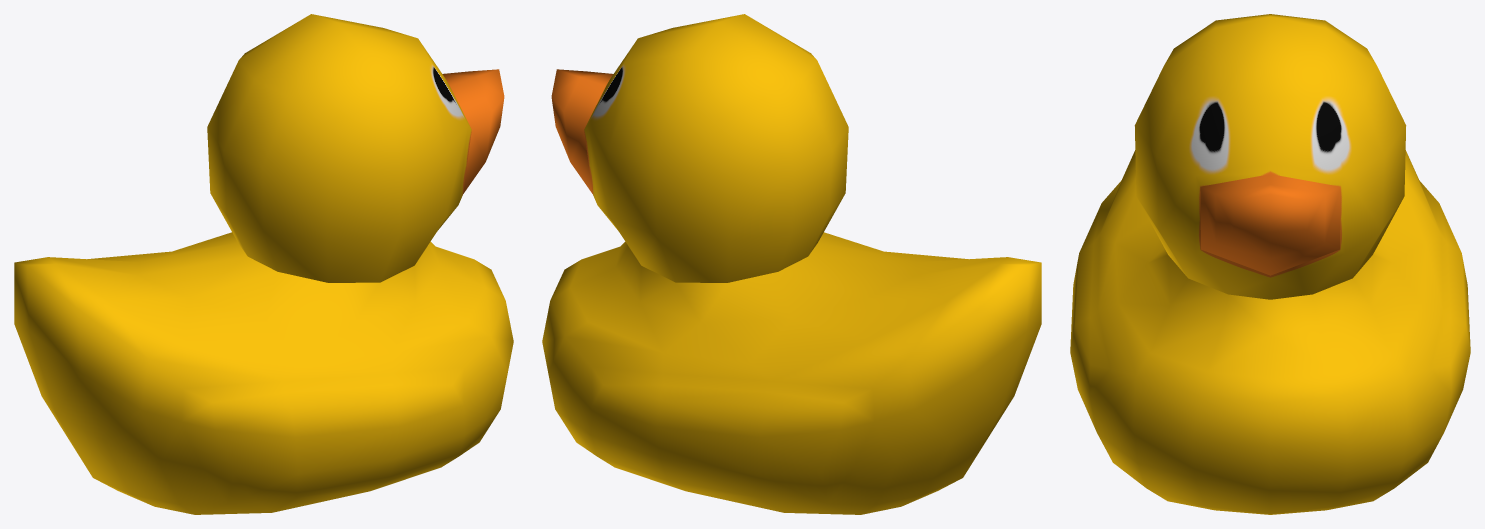
File: duck.obj
3 renders of one model, left to right at view 1: azimuth 30°, elevation 25°; view 2: azimuth 150°, elevation 25°; view 3: azimuth 270°, elevation 25°, orthographic. The views are drawn at different scales.
Parts seen in each view (by area): view 1: RubberDuck_LOD2; view 2: RubberDuck_LOD2; view 3: RubberDuck_LOD2.
Boxes of the visible parts, x1=… form: RubberDuck_LOD2: x1=14, y1=14, x2=513, y2=514; RubberDuck_LOD2: x1=542, y1=14, x2=1041, y2=514; RubberDuck_LOD2: x1=1070, y1=14, x2=1470, y2=514.
Size of the model in its own units: 0.4476 by 0.3776 by 0.3069.
1 material, 1 textured.
